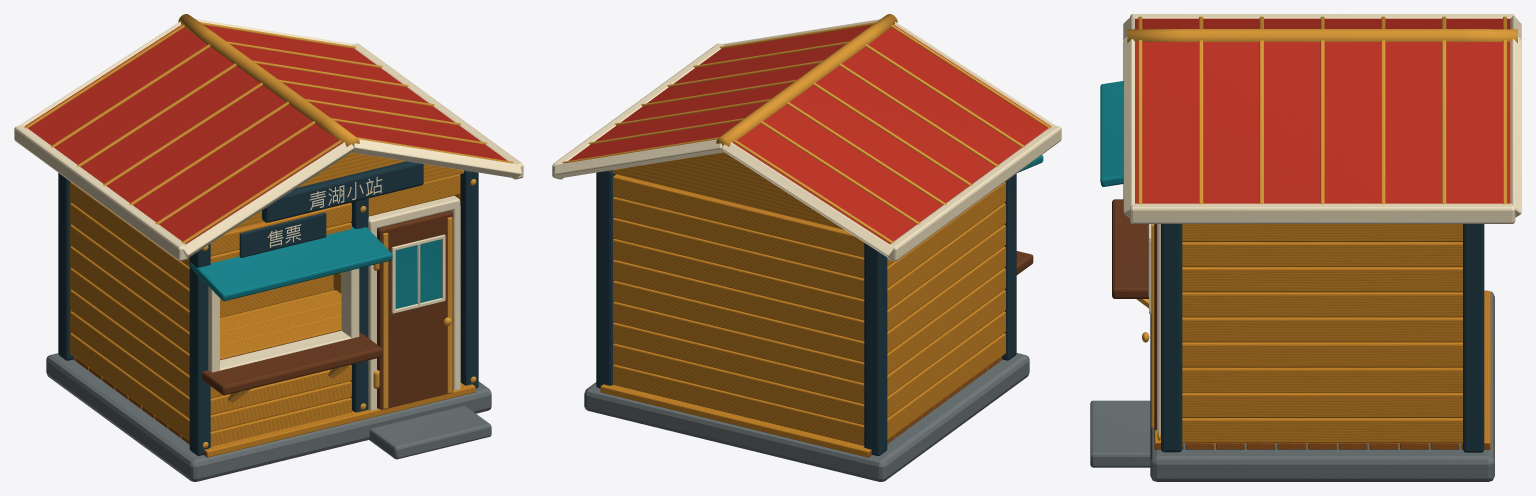
File: Building_Station_TicketHut_001.glb
The picture shows the model from 3 angles, left to right: view 1: azimuth 30°, elevation 25°; view 2: azimuth 150°, elevation 25°; view 3: azimuth 270°, elevation 25°; orthographic projection. The views are drawn at different scales.
Visible parts, largest first — view 1: TicketHut_Body, TicketHut_Door; view 2: TicketHut_Body; view 3: TicketHut_Body, TicketHut_Door.
Boxes of the visible parts, bbox=[...] form: TicketHut_Body: bbox=[14, 14, 523, 481]; TicketHut_Door: bbox=[377, 210, 452, 409]; TicketHut_Body: bbox=[552, 14, 1061, 481]; TicketHut_Body: bbox=[1090, 14, 1521, 481]; TicketHut_Door: bbox=[1142, 224, 1156, 429].
Size of the model in its own units: 3.91 by 3.45 by 3.66.
1 material, 1 textured.
